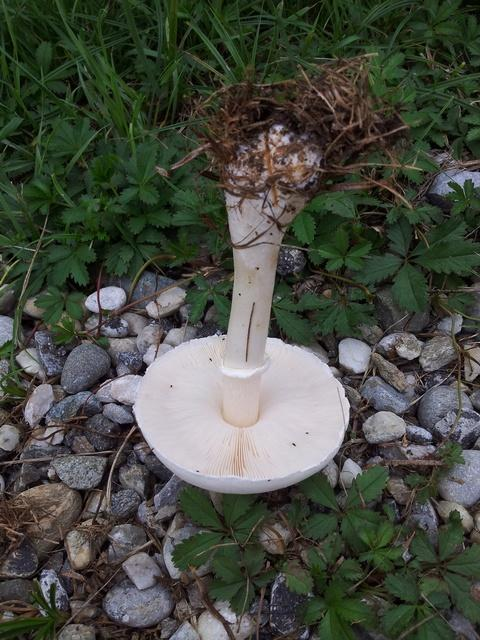poisonous_mushroom: (131, 116, 351, 494)
